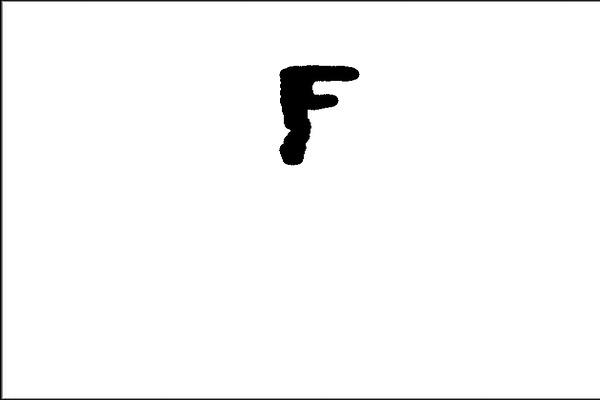F: (272, 62, 361, 169)
